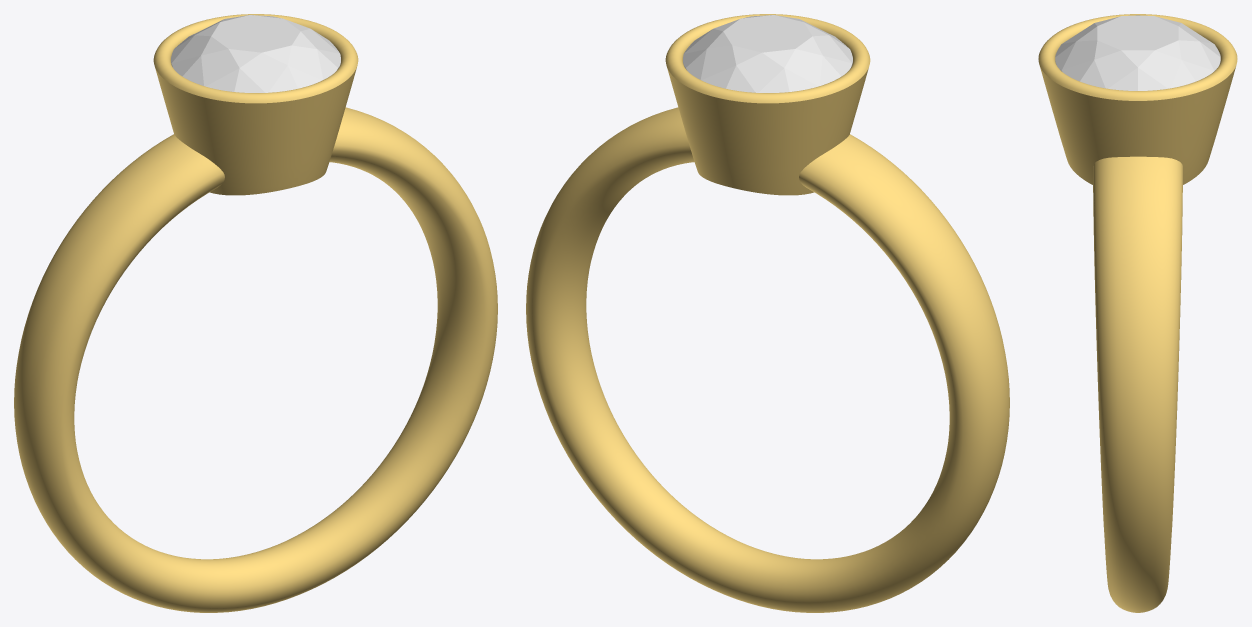
Rendered from diamond-round-yellowgold-bezelset-taperedband-nosidestones.glb.
The picture shows the model from 3 angles, left to right: view 1: azimuth 30°, elevation 25°; view 2: azimuth 150°, elevation 25°; view 3: azimuth 270°, elevation 25°; orthographic projection. The views are drawn at different scales.
Parts seen in each view (by area): view 1: metal, stone; view 2: metal, stone; view 3: metal, stone.
Part boxes in pixels (x1,y1,x2,y2): metal: (14,14,497,612); stone: (171,15,340,92); metal: (526,14,1009,612); stone: (683,15,852,92); metal: (1038,14,1237,612); stone: (1055,15,1220,90).
Bounding box in the file's own units: 20.5 × 23.81 × 7.74.
